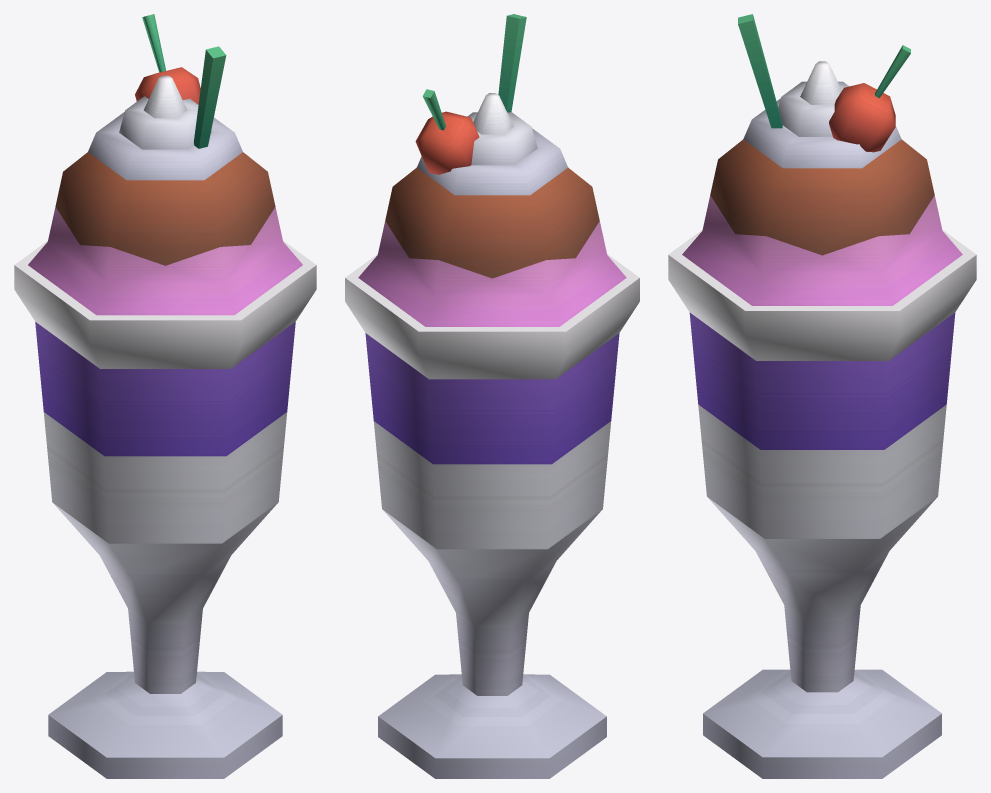
The model's file is sundae.glb.
3 views of the same model, side by side, from view 1: azimuth 30°, elevation 25°; view 2: azimuth 150°, elevation 25°; view 3: azimuth 270°, elevation 25° (orthographic). The views are drawn at different scales.
Visible parts, largest first — view 1: sundae, straw, cherry; view 2: sundae, cherry, straw; view 3: sundae, cherry, straw.
Boxes of the visible parts, left/top/right/bottom form: sundae: left=14, top=75, right=316, bottom=778; straw: left=194, top=46, right=226, bottom=148; cherry: left=135, top=14, right=200, bottom=104; sundae: left=345, top=93, right=639, bottom=778; cherry: left=415, top=89, right=479, bottom=174; straw: left=498, top=14, right=526, bottom=112; sundae: left=668, top=61, right=976, bottom=778; cherry: left=829, top=45, right=910, bottom=152; straw: left=738, top=14, right=782, bottom=128.
Size of the model in its own units: 0.2232 by 0.6679 by 0.2577.
Materials: 1 (1 with a texture image).
